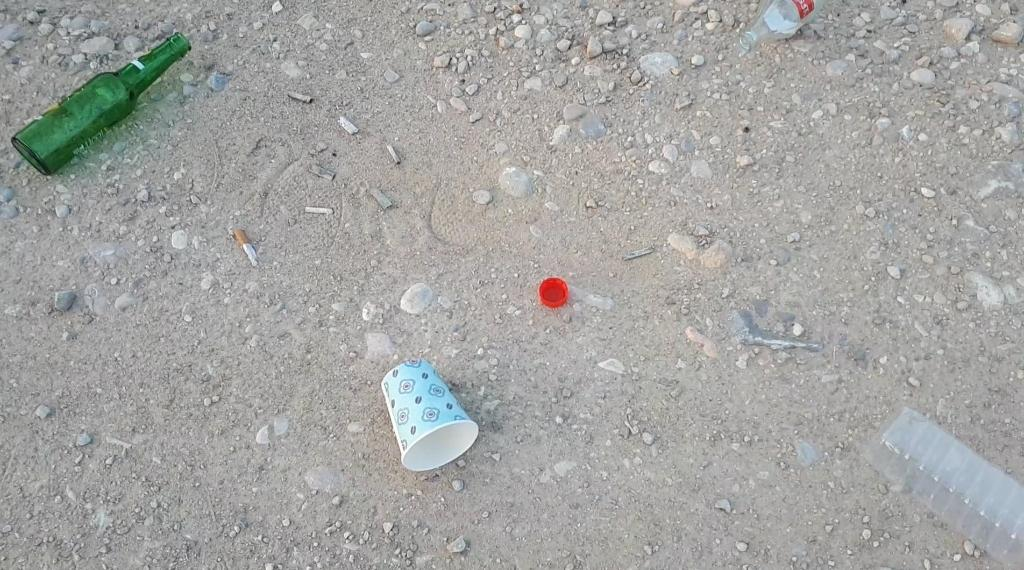garbage: (806, 378, 1024, 570), (11, 20, 223, 177), (862, 406, 1023, 570), (11, 32, 191, 175), (341, 354, 514, 481), (738, 0, 827, 52)
